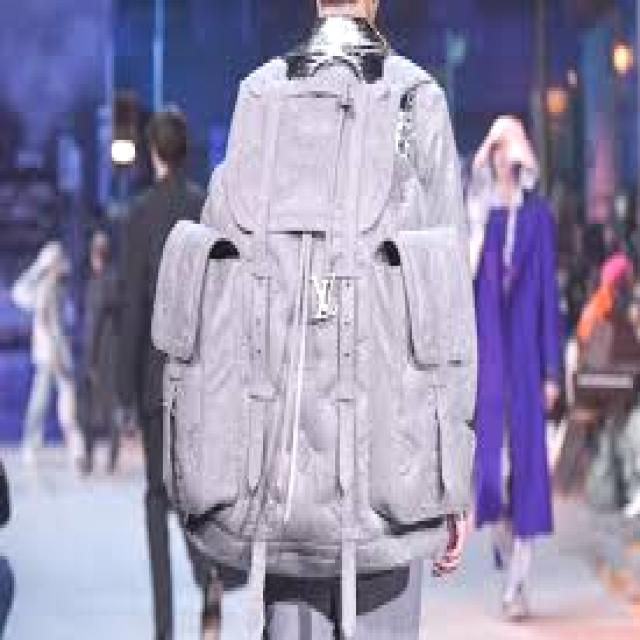backpack: (152, 54, 476, 592)
